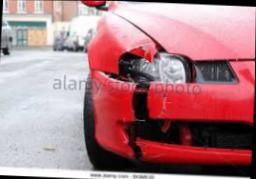Bumper: (93, 70, 250, 165)
Fender: (87, 13, 154, 72)
Light: (111, 48, 195, 84)
